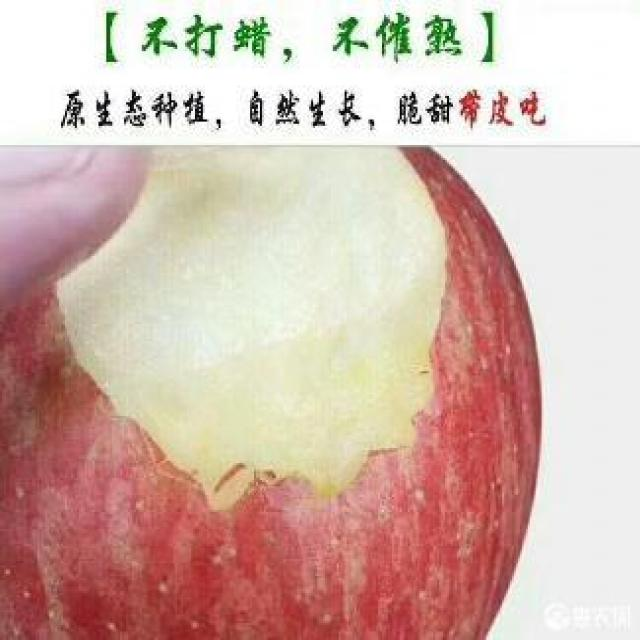Rotten: (0, 134, 547, 640)
